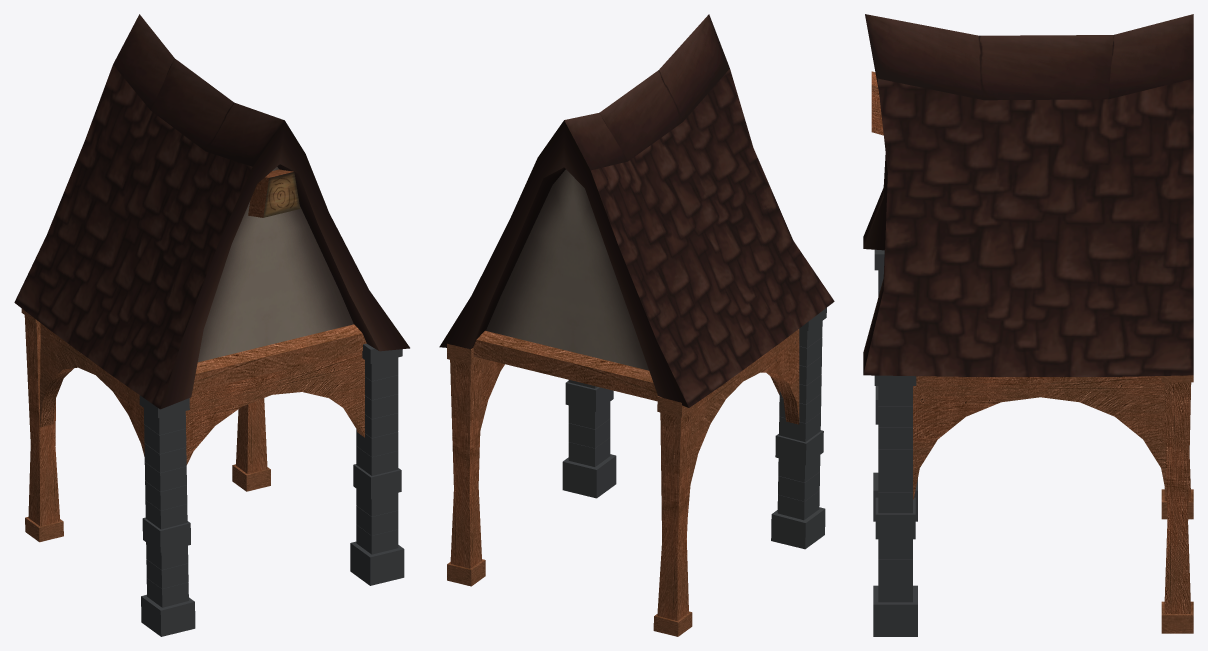
Rendered from fanasty_mod_entrance_way02.fbx.
3 renders of one model, left to right at view 1: azimuth 30°, elevation 25°; view 2: azimuth 150°, elevation 25°; view 3: azimuth 270°, elevation 25°, orthographic. The views are drawn at different scales.
Parts seen in each view (by area): view 1: entrance_way_02; view 2: entrance_way_02; view 3: entrance_way_02.
Part boxes in pixels (x1=…): entrance_way_02: x1=14, y1=14, x2=409, y2=636; entrance_way_02: x1=439, y1=14, x2=834, y2=636; entrance_way_02: x1=863, y1=14, x2=1193, y2=636.
Size of the model in its own units: 3.85 by 7.19 by 3.88.
